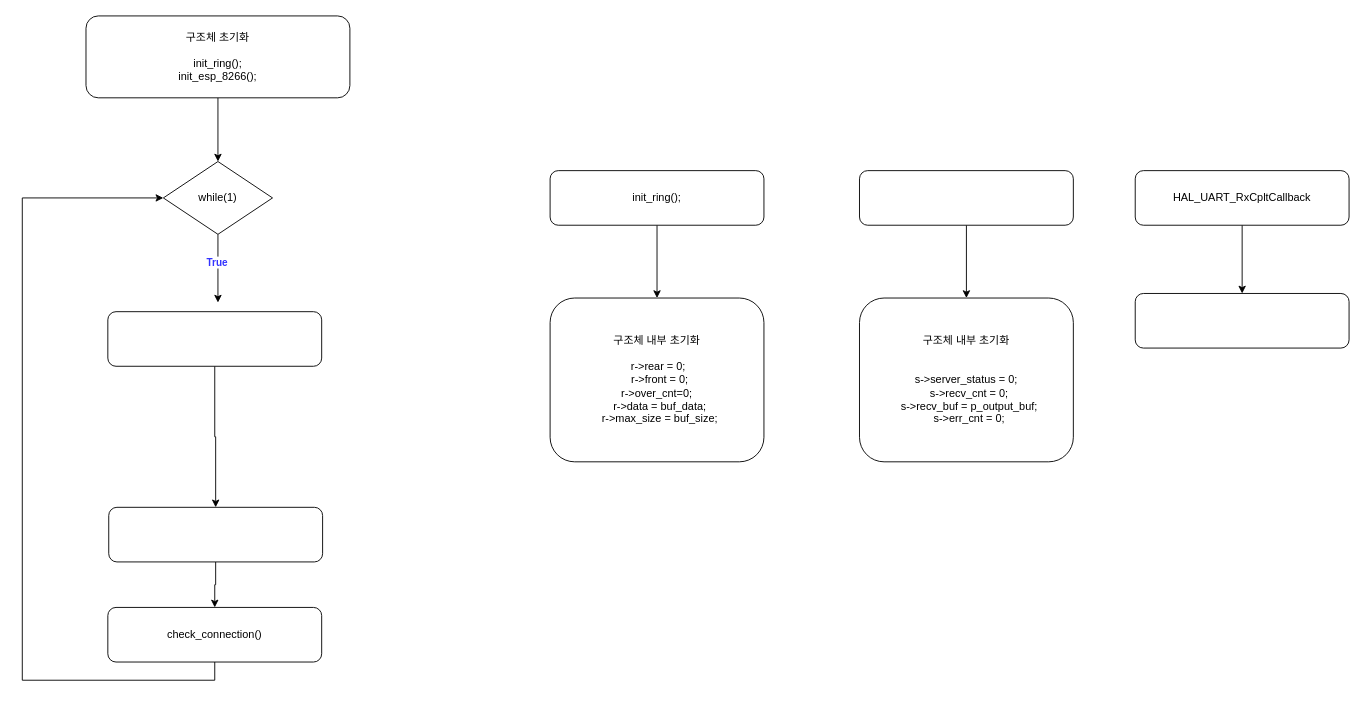
Image size: 1365x703. Some labels were removed from this diagram. Each missing label, with the centre of its shape:
"enqueue_ring()" goes at pixel 1241 320.
"init_esp_8266();" goes at pixel 966 197.
"process_ring_html()" goes at pixel 214 338.
"sequence_html()" goes at pixel 215 534.
